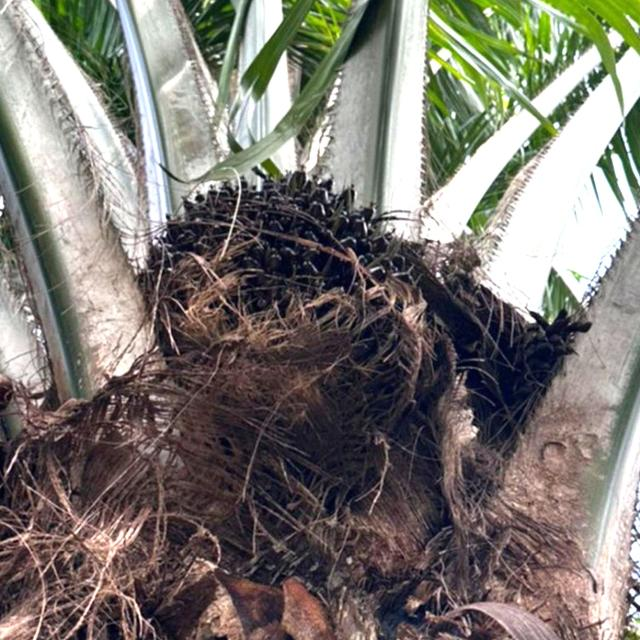almost: (125, 149, 438, 456)
